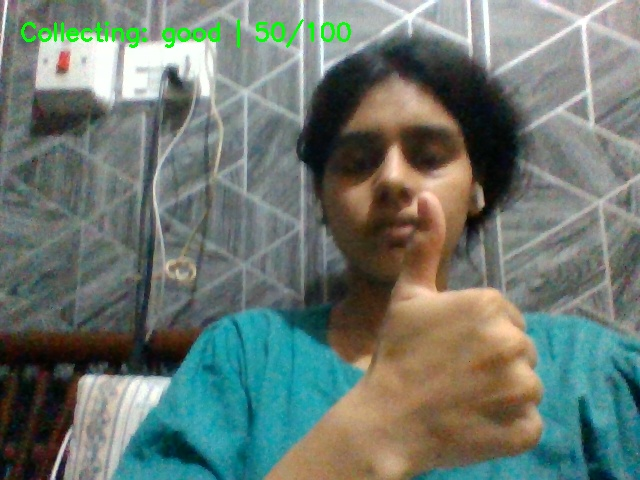good: (361, 182, 596, 480)
